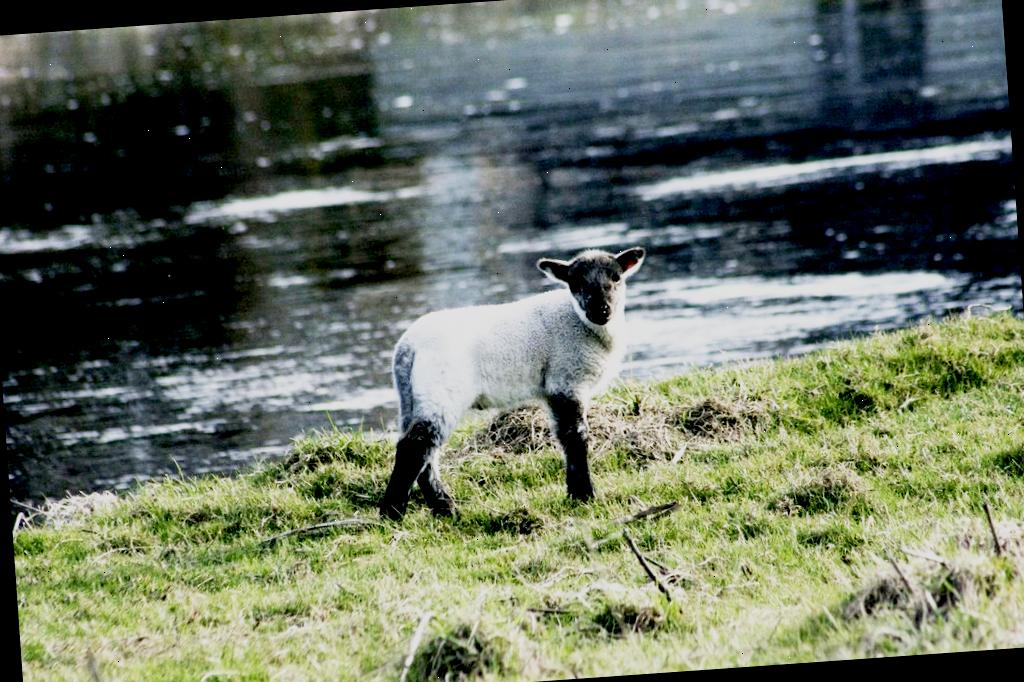Sheep: (359, 226, 680, 532)
